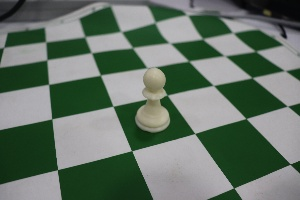white_pawn: (125, 55, 179, 144)
